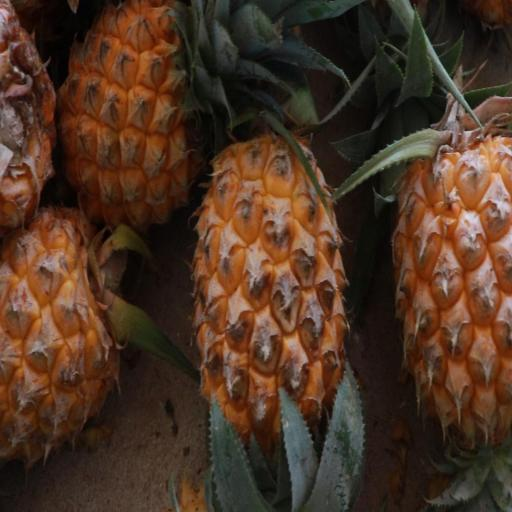Pineapple - v8 v1: (187, 122, 355, 512), (387, 99, 512, 463), (47, 0, 228, 241), (0, 193, 142, 472)
